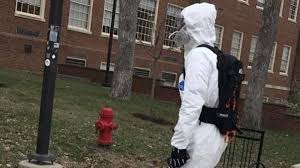masked: (172, 5, 220, 53)
